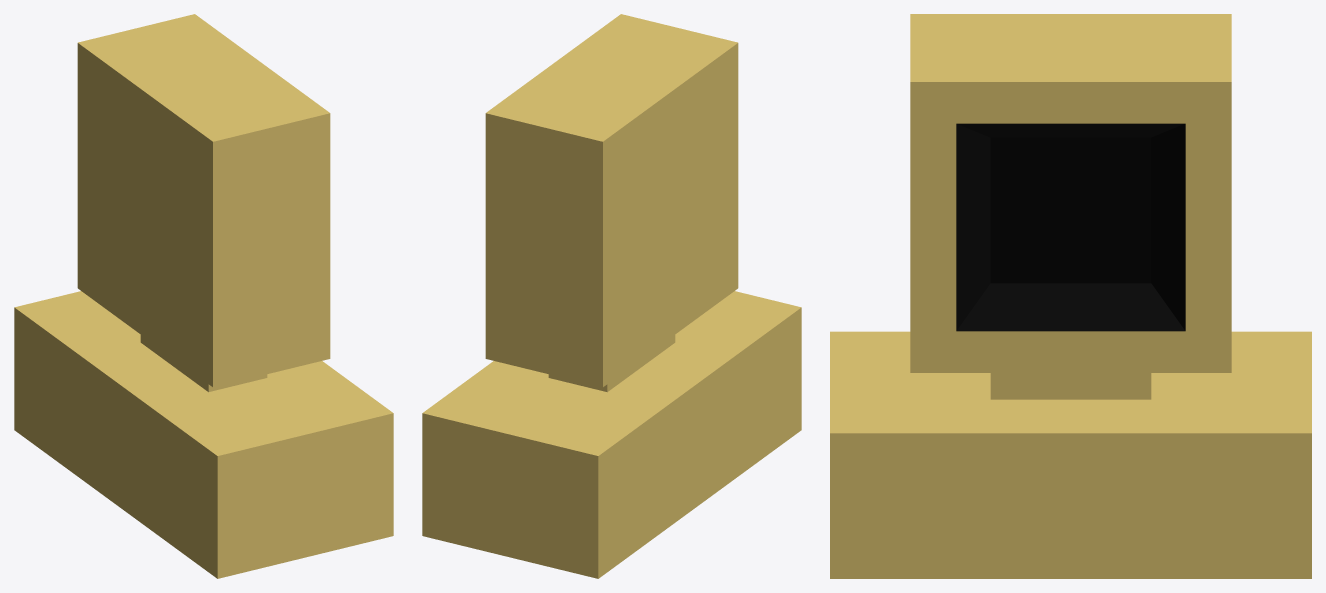
File: Monitor.fbx
3 renders of one model, left to right at view 1: azimuth 30°, elevation 25°; view 2: azimuth 150°, elevation 25°; view 3: azimuth 270°, elevation 25°, orthographic. The views are drawn at different scales.
Visible parts, largest first — view 1: Cube; view 2: Cube; view 3: Cube.
Part boxes in pixels (x1,y1,x2,y2): Cube: (14,14,393,578); Cube: (422,14,801,578); Cube: (830,14,1311,578).
Bounding box in the file's own units: 300 × 660 × 600.
